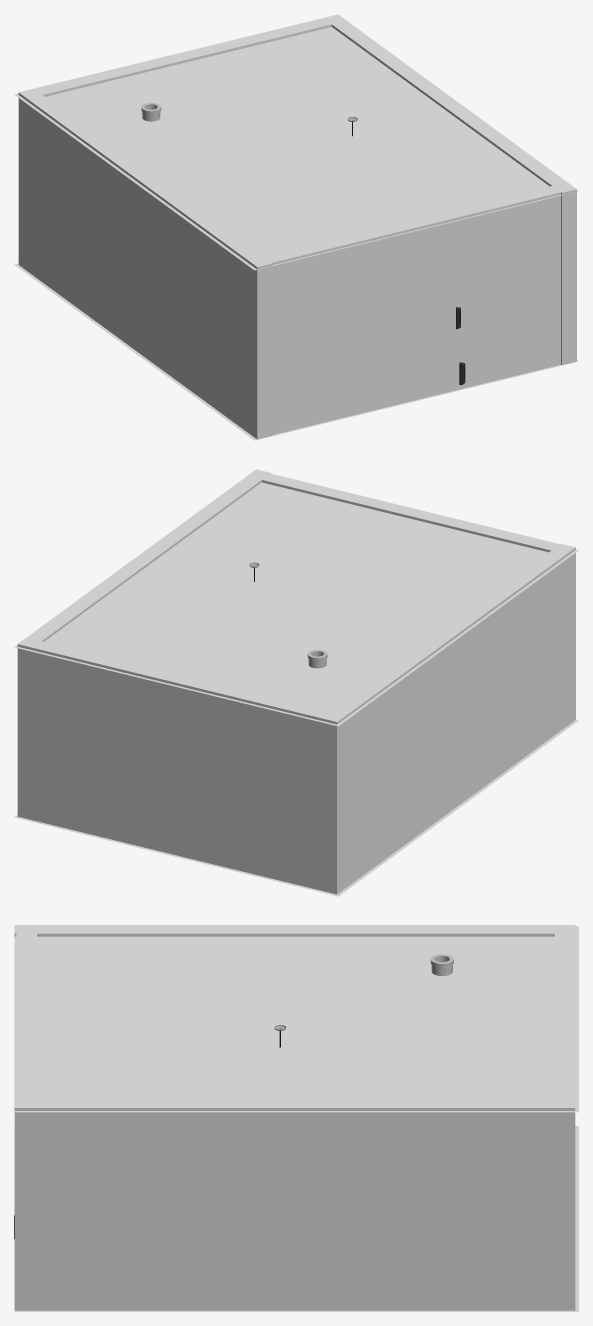
File: twentyone.fbx
3 views of the same model, one above another, from view 1: azimuth 30°, elevation 25°; view 2: azimuth 150°, elevation 25°; view 3: azimuth 270°, elevation 25° (orthographic). The views are drawn at different scales.
Parts seen in each view (by area): view 1: Plane.001, Cube.003, Cube, Cube.001, Cube.002, Plane; view 2: Plane.001, Cube.002, Cube, Cube.001, Cube.003, Plane; view 3: Cube.001, Plane.001, Cube, Cube.002, Cube.003, Plane.
Boxes of the visible parts, left/top/right/bottom form: Plane.001: left=14, top=27, right=578, bottom=270; Cube.003: left=263, top=186, right=560, bottom=434; Cube: left=18, top=92, right=272, bottom=439; Cube.001: left=326, top=14, right=576, bottom=364; Cube.002: left=19, top=15, right=340, bottom=98; Plane: left=14, top=263, right=578, bottom=440; Plane.001: left=14, top=482, right=578, bottom=726; Cube.002: left=22, top=639, right=344, bottom=894; Cube: left=322, top=543, right=575, bottom=894; Cube.001: left=17, top=469, right=271, bottom=817; Cube.003: left=262, top=473, right=559, bottom=552; Plane: left=14, top=720, right=578, bottom=896; Cube.001: left=14, top=1099, right=575, bottom=1310; Plane.001: left=14, top=926, right=578, bottom=1112; Cube: left=14, top=925, right=574, bottom=936; Cube.002: left=555, top=925, right=575, bottom=1105; Cube.003: left=16, top=933, right=36, bottom=1099; Plane: left=14, top=1126, right=578, bottom=1311.
Size of the model in its own units: 5.3 by 2.96 by 6.81.
